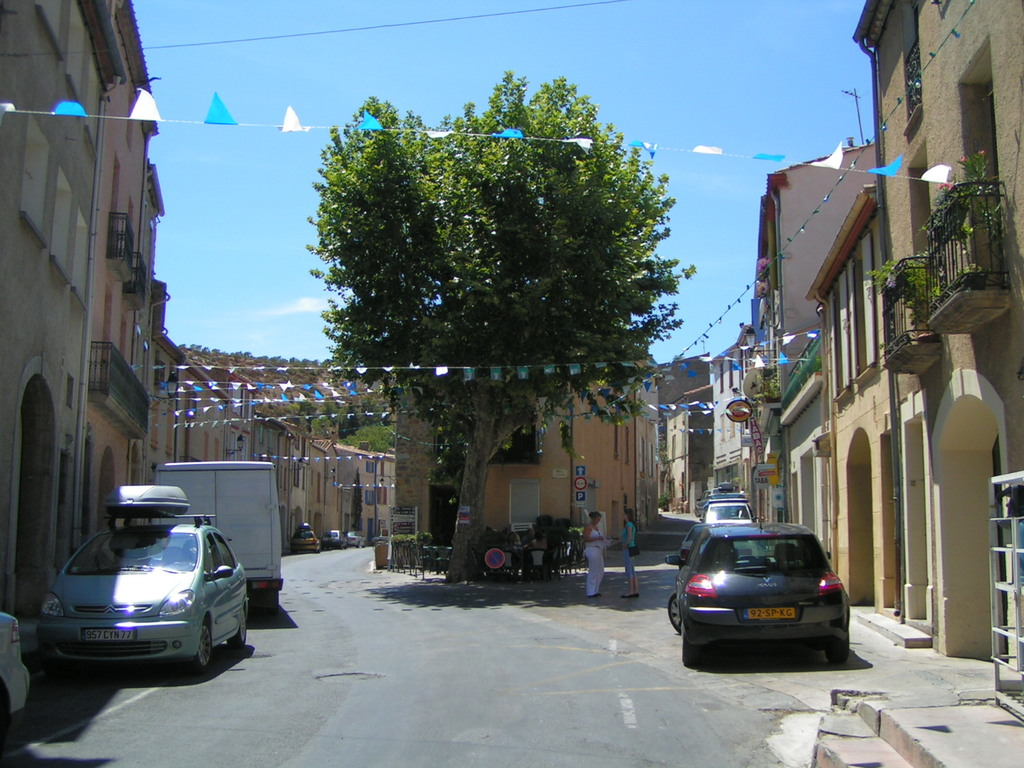Car: (28, 480, 251, 669), (665, 521, 851, 673), (0, 603, 30, 734), (696, 496, 755, 524), (284, 526, 321, 550), (324, 533, 348, 557), (350, 528, 368, 543)
